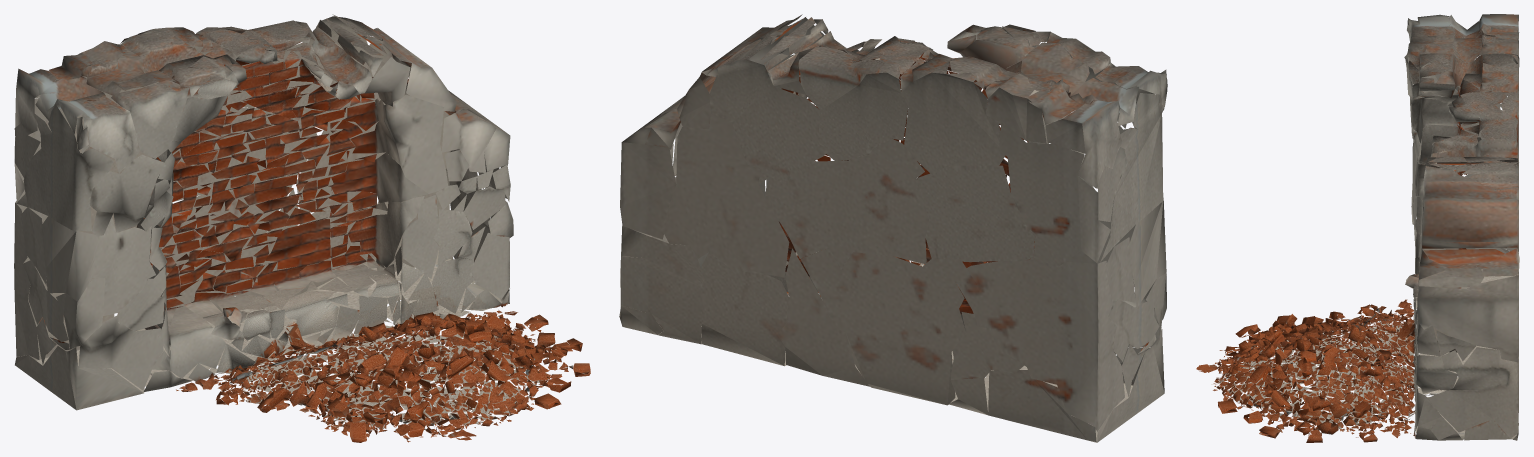
Rendered from yikik_duvar.glb.
The picture shows the model from 3 angles, left to right: view 1: azimuth 30°, elevation 25°; view 2: azimuth 150°, elevation 25°; view 3: azimuth 270°, elevation 25°; orthographic projection. The views are drawn at different scales.
Parts seen in each view (by area): view 1: yikik_duvar; view 2: yikik_duvar; view 3: yikik_duvar.
Part boxes in pixels (<box>): yikik_duvar: <box>14,14,590,442</box>; yikik_duvar: <box>619,14,1167,442</box>; yikik_duvar: <box>1196,14,1519,442</box>.
Bounding box in the file's own units: 4 × 2.65 × 3.
1 material, 1 textured.
